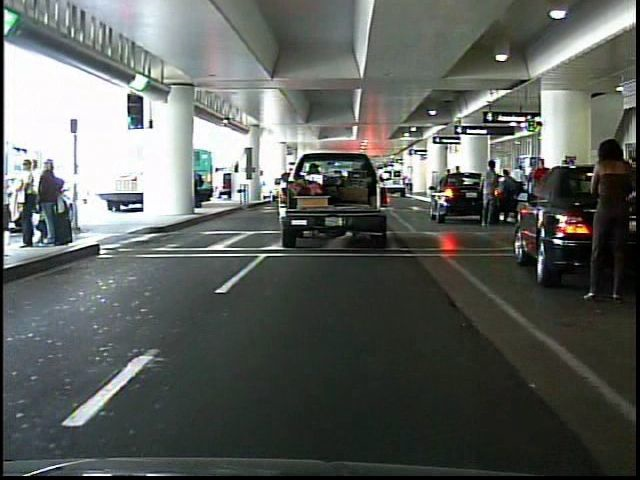person: (581, 135, 633, 305), (473, 155, 506, 233)
